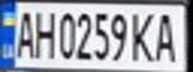0: (54, 7, 75, 60)
2: (72, 8, 93, 61)
5: (90, 8, 112, 61)
9: (109, 8, 130, 62)
A: (151, 8, 184, 63), (9, 6, 36, 60)
H: (30, 6, 57, 60)
K: (127, 8, 157, 63)
